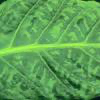Tomato leaf mosaic virus: (2, 2, 99, 99)
